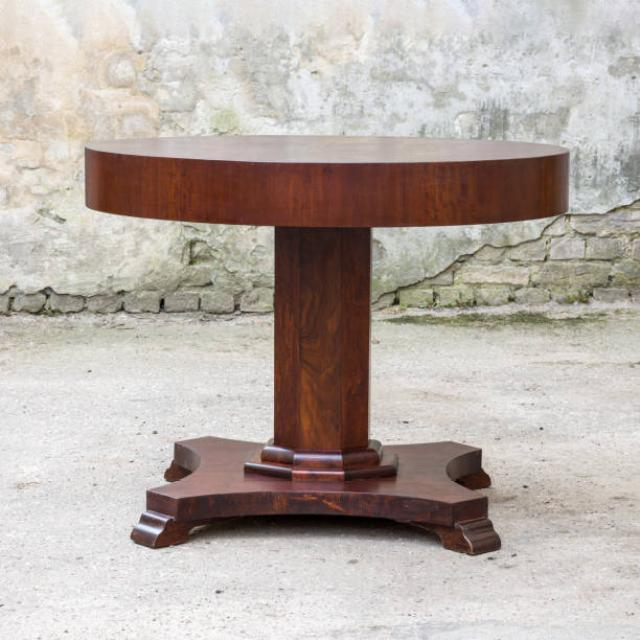table: (82, 132, 570, 556)
